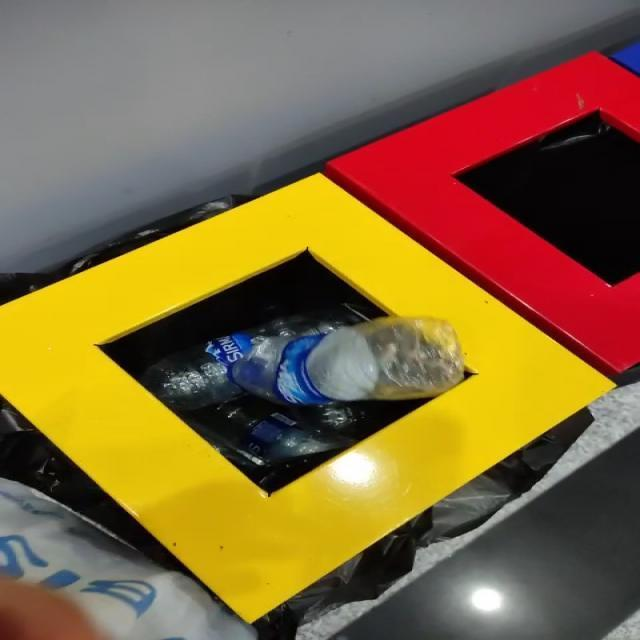Plastic: (235, 317, 465, 406)
